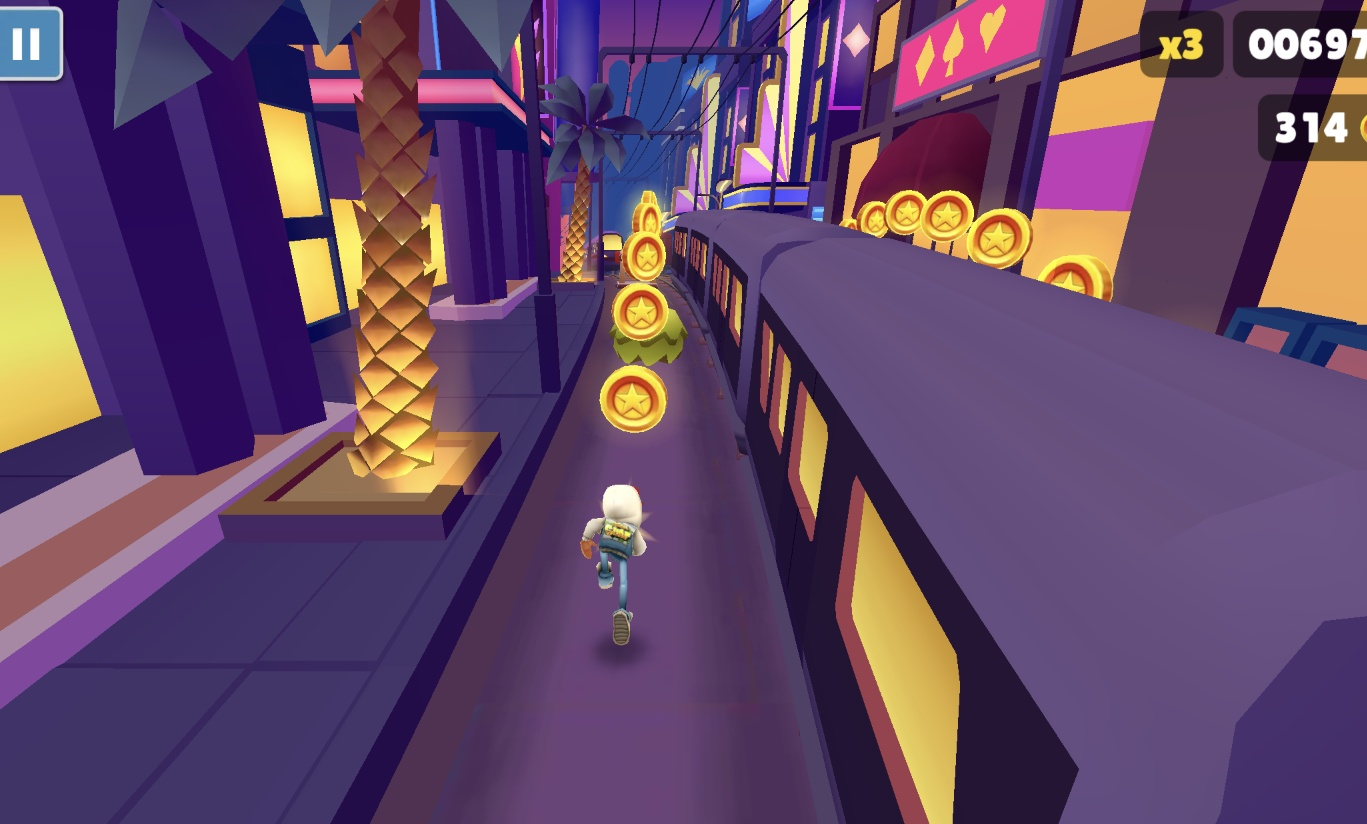bush: (610, 312, 687, 366)
ground_barrier: (614, 247, 646, 285)
train: (664, 210, 1367, 824), (600, 232, 624, 277)
